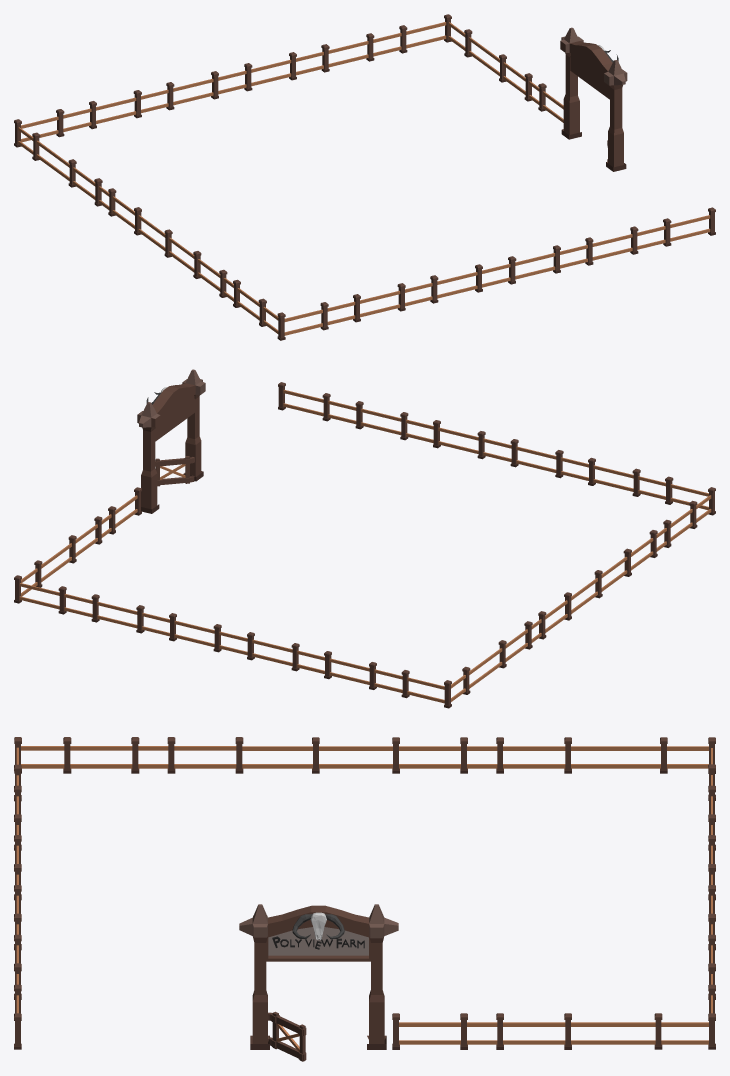
Rendered from Fence.glb.
3 views of the same model, one above another, from view 1: azimuth 30°, elevation 25°; view 2: azimuth 150°, elevation 25°; view 3: azimuth 270°, elevation 25° (orthographic). The views are drawn at different scales.
Visible parts, largest first — view 1: Text.001; view 2: Text.001; view 3: Text.001.
Boxes of the visible parts, x1,y1,x2,y2 form: Text.001: (14,14,715,340); Text.001: (14,369,715,708); Text.001: (14,737,715,1061).
Bounding box in the file's own units: 36.17 × 8.32 × 37.04.
1 material, 1 textured.
